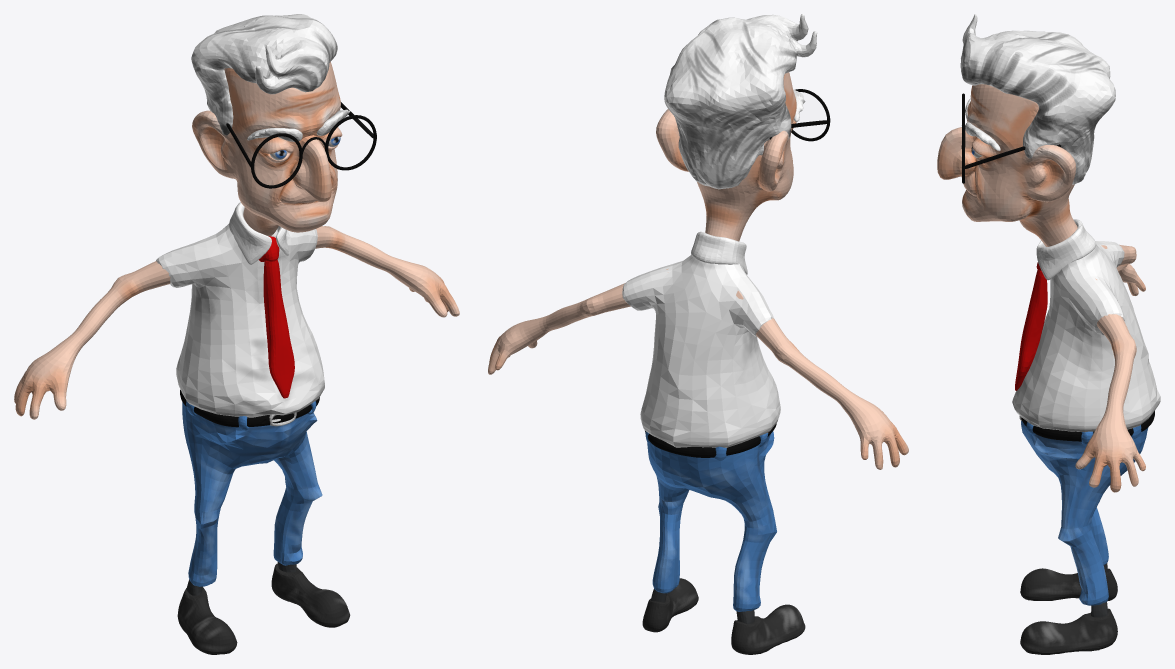
3 views of the same model, side by side, from view 1: azimuth 30°, elevation 25°; view 2: azimuth 150°, elevation 25°; view 3: azimuth 270°, elevation 25° (orthographic). The views are drawn at different scales.
Visible parts, largest first — view 1: dfec8c14_e84e_401a_8e9b_8b14a9867d90, bbee5dc0_e85b_43f6_9ea7_9a3bc4daefb8, 5a1267c2_1d48_4fdf_9474_e3bc29ca3cba, a61e133b_2cfd_4a54_b642_460d106bb4f8, be5850ee_4a08_4176_bf10_8b59f92189af, 098bc9de_082d_4538_967d_c5e601ab34f9, c92ce7d9_e734_4c02_b23d_0499808c7ecb, f1d1474e_8981_4e96_ac5b_c3d239cfb898, 1f4122dc_2dd2_48bb_8b81_4954130d72eb, 05b043f1_be30_4450_8e0a_a1e8b889d24f, a4bebed2_f37f_4a60_8cf8_cc0df0e24d7d; view 2: dfec8c14_e84e_401a_8e9b_8b14a9867d90, a61e133b_2cfd_4a54_b642_460d106bb4f8, 5a1267c2_1d48_4fdf_9474_e3bc29ca3cba, be5850ee_4a08_4176_bf10_8b59f92189af, bbee5dc0_e85b_43f6_9ea7_9a3bc4daefb8, 098bc9de_082d_4538_967d_c5e601ab34f9, 1f4122dc_2dd2_48bb_8b81_4954130d72eb, 05b043f1_be30_4450_8e0a_a1e8b889d24f; view 3: dfec8c14_e84e_401a_8e9b_8b14a9867d90, bbee5dc0_e85b_43f6_9ea7_9a3bc4daefb8, a61e133b_2cfd_4a54_b642_460d106bb4f8, 5a1267c2_1d48_4fdf_9474_e3bc29ca3cba, be5850ee_4a08_4176_bf10_8b59f92189af, 098bc9de_082d_4538_967d_c5e601ab34f9, c92ce7d9_e734_4c02_b23d_0499808c7ecb, 1f4122dc_2dd2_48bb_8b81_4954130d72eb, 05b043f1_be30_4450_8e0a_a1e8b889d24f, f1d1474e_8981_4e96_ac5b_c3d239cfb898, a4bebed2_f37f_4a60_8cf8_cc0df0e24d7d.
Boxes of the visible parts, <box> form: dfec8c14_e84e_401a_8e9b_8b14a9867d90: <box>156,223,324,417</box>; bbee5dc0_e85b_43f6_9ea7_9a3bc4daefb8: <box>192,61,342,236</box>; 5a1267c2_1d48_4fdf_9474_e3bc29ca3cba: <box>182,402,322,586</box>; a61e133b_2cfd_4a54_b642_460d106bb4f8: <box>191,14,337,135</box>; be5850ee_4a08_4176_bf10_8b59f92189af: <box>14,226,459,419</box>; 098bc9de_082d_4538_967d_c5e601ab34f9: <box>177,563,350,654</box>; c92ce7d9_e734_4c02_b23d_0499808c7ecb: <box>263,260,294,398</box>; f1d1474e_8981_4e96_ac5b_c3d239cfb898: <box>226,102,376,188</box>; 1f4122dc_2dd2_48bb_8b81_4954130d72eb: <box>229,202,288,264</box>; 05b043f1_be30_4450_8e0a_a1e8b889d24f: <box>180,390,319,427</box>; a4bebed2_f37f_4a60_8cf8_cc0df0e24d7d: <box>247,109,349,141</box>; dfec8c14_e84e_401a_8e9b_8b14a9867d90: <box>622,255,780,447</box>; a61e133b_2cfd_4a54_b642_460d106bb4f8: <box>664,14,817,189</box>; 5a1267c2_1d48_4fdf_9474_e3bc29ca3cba: <box>647,431,776,611</box>; be5850ee_4a08_4176_bf10_8b59f92189af: <box>488,268,908,469</box>; bbee5dc0_e85b_43f6_9ea7_9a3bc4daefb8: <box>656,72,796,241</box>; 098bc9de_082d_4538_967d_c5e601ab34f9: <box>642,578,805,654</box>; 1f4122dc_2dd2_48bb_8b81_4954130d72eb: <box>691,231,747,274</box>; 05b043f1_be30_4450_8e0a_a1e8b889d24f: <box>645,423,776,457</box>; dfec8c14_e84e_401a_8e9b_8b14a9867d90: <box>1012,241,1160,432</box>; bbee5dc0_e85b_43f6_9ea7_9a3bc4daefb8: <box>937,84,1077,246</box>; a61e133b_2cfd_4a54_b642_460d106bb4f8: <box>960,14,1115,184</box>; 5a1267c2_1d48_4fdf_9474_e3bc29ca3cba: <box>1021,421,1148,605</box>; be5850ee_4a08_4176_bf10_8b59f92189af: <box>1075,244,1145,492</box>; 098bc9de_082d_4538_967d_c5e601ab34f9: <box>1020,568,1117,654</box>; c92ce7d9_e734_4c02_b23d_0499808c7ecb: <box>1015,270,1047,390</box>; 1f4122dc_2dd2_48bb_8b81_4954130d72eb: <box>1036,219,1096,280</box>; 05b043f1_be30_4450_8e0a_a1e8b889d24f: <box>1021,411,1154,441</box>; f1d1474e_8981_4e96_ac5b_c3d239cfb898: <box>961,93,1060,183</box>; a4bebed2_f37f_4a60_8cf8_cc0df0e24d7d: <box>965,98,1000,151</box>.
Size of the model in its own units: 72.47 by 100 by 34.36.
Materials: 16 (10 with a texture image).
